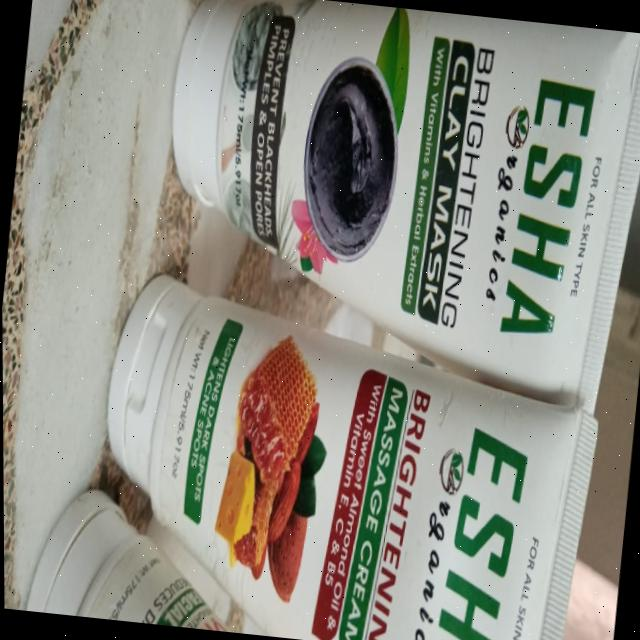sun block: (134, 0, 640, 433), (77, 267, 629, 640)
